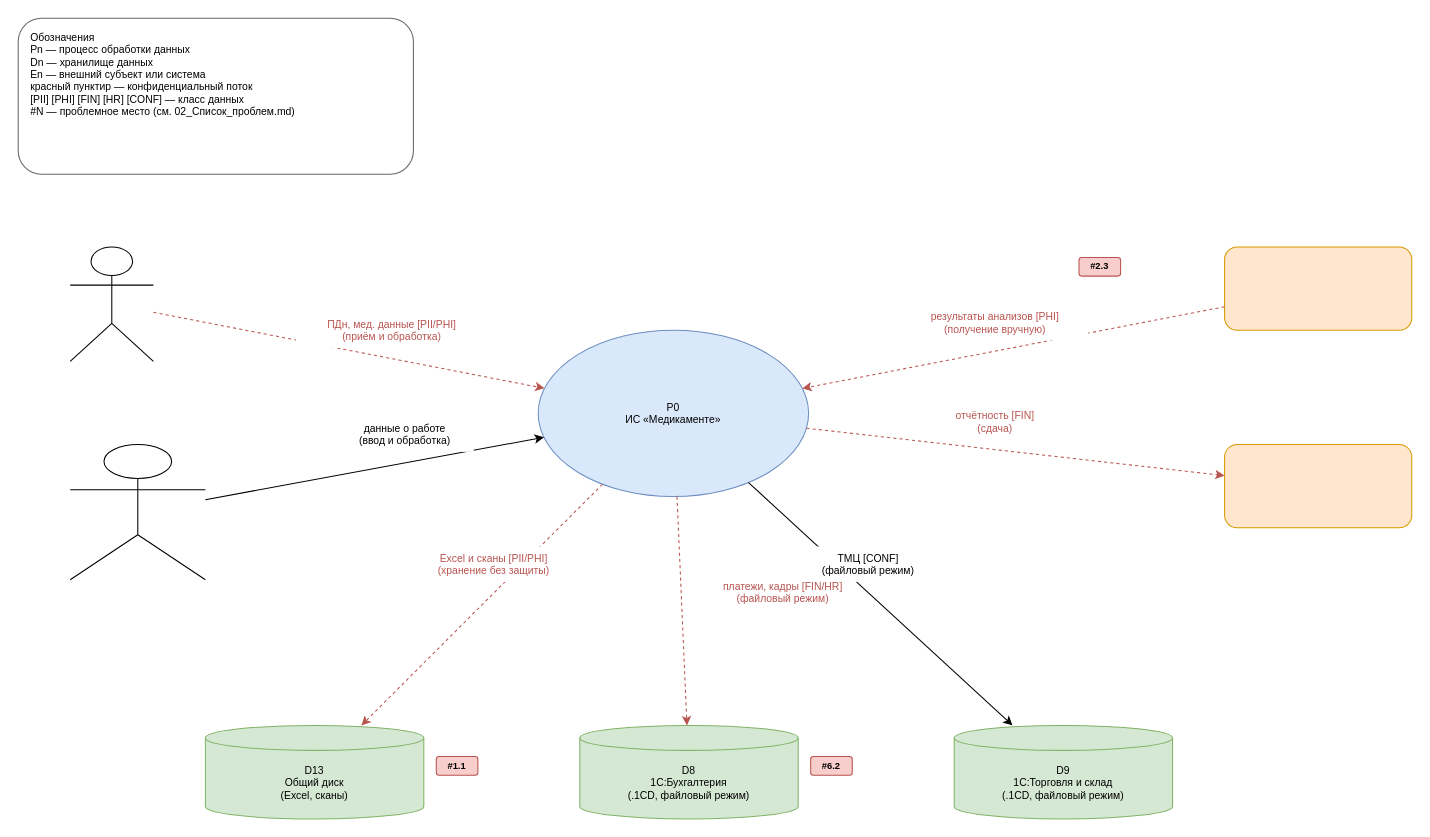
Image size: 1430x837. Some labels were removed from this diagram. Each missing label, with the centre of its shape:
"E1 Пациент" belongs at point 111,303.
"E10 Сотрудники" belongs at point 137,512.
"E7 Лаборатория анализов" belongs at point 1318,288.
"E8 Налоговая / ФСС / ПФР" belongs at point 1318,486.
